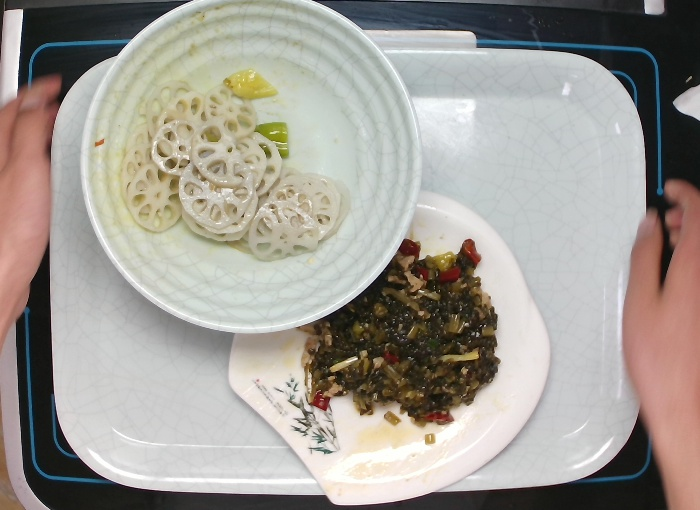JYsf-Da_Tang_Wan: (75, 1, 428, 337)
JYsf-Mian_Pan: (223, 187, 556, 509)
